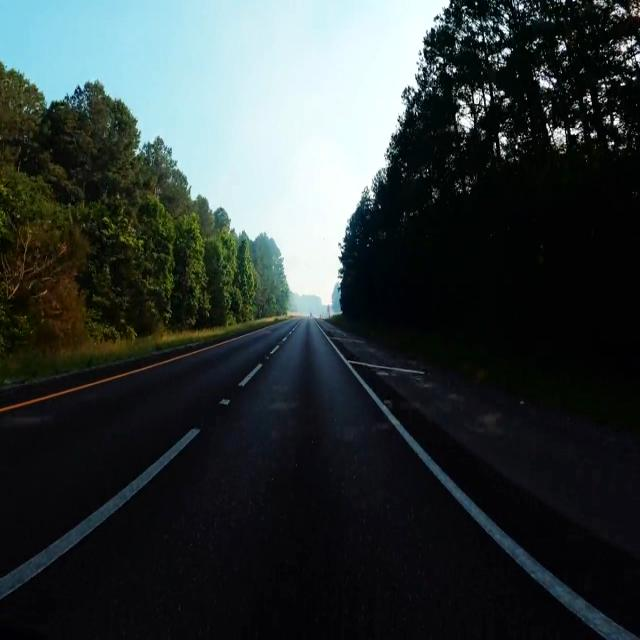road: (0, 319, 596, 637)
